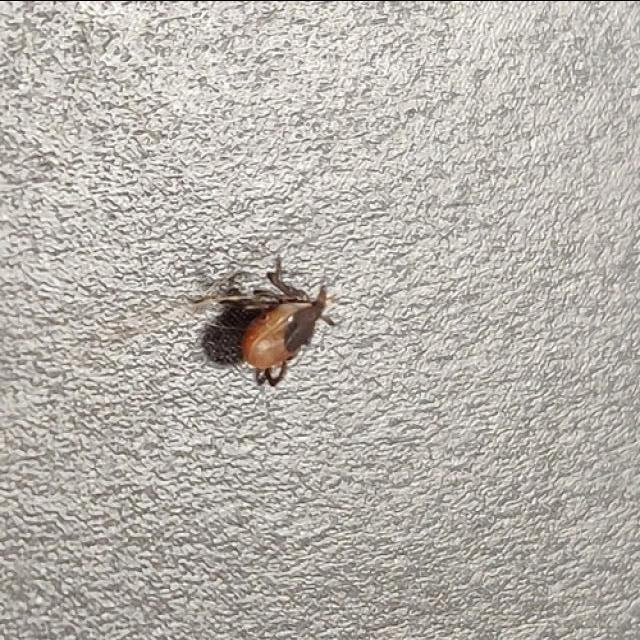Ixodes Ricinus-F-Fed: (205, 260, 328, 389)
